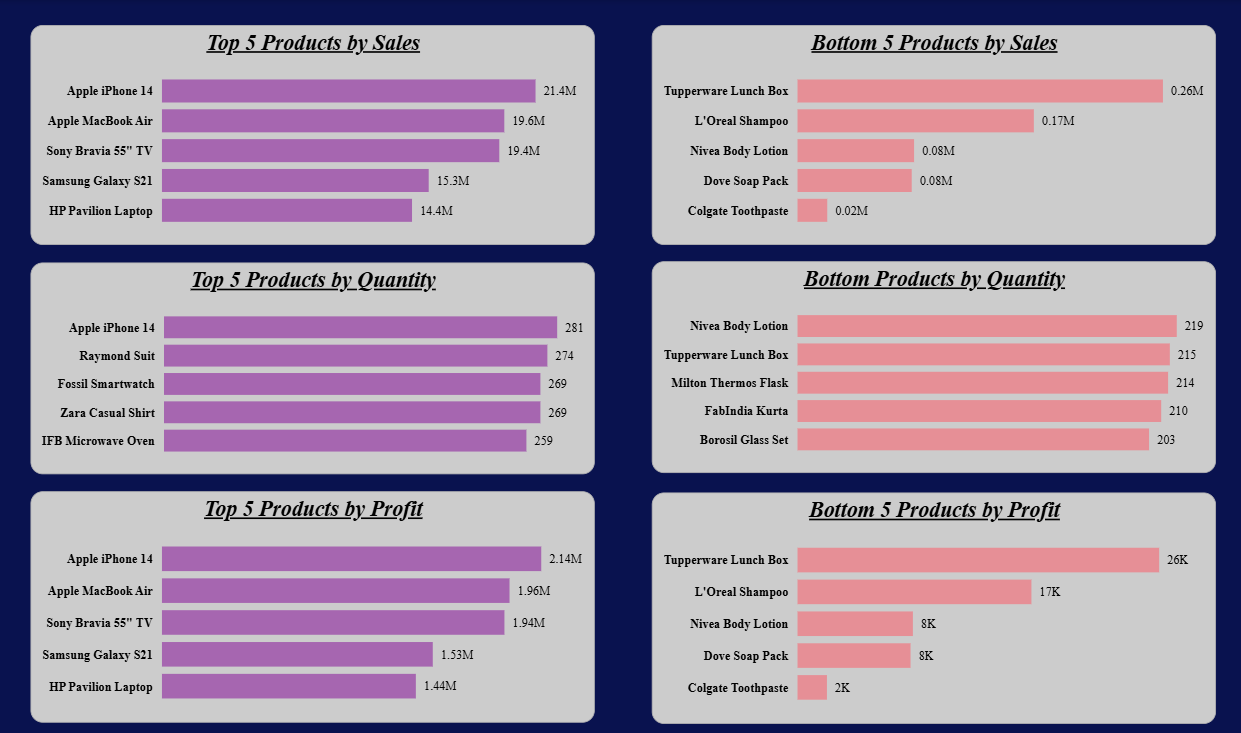

Layout of this report page (visuals, bound fields, positions):
{"tool":"powerbi","page":{"name":"Top/Bottom 5 Analysis","canvas":[1280,720],"ordinal":1},"visuals":[{"type":"barChart","title":"Top 5 Products by Sales","fields":{"Category":["Dim Product.Product Name"],"Y":["Sum(Fact Table.Net Sales )"]},"box":[31.6,24.7,551.6,215.4],"z":0},{"type":"barChart","title":"Bottom 5 Products by Sales","fields":{"Category":["Dim Product.Product Name"],"Y":["Sum(Fact Table.Net Sales )"]},"box":[639.5,24.7,551.6,215.4],"z":1000},{"type":"barChart","title":"Top 5 Products by Quantity","fields":{"Category":["Dim Product.Product Name"],"Y":["Sum(Fact Table.Units Sold)"]},"box":[31.6,256.6,551.6,207.2],"z":2000},{"type":"barChart","title":"Bottom Products by Quantity","fields":{"Category":["Dim Product.Product Name"],"Y":["Sum(Fact Table.Units Sold)"]},"box":[639.5,255.2,551.6,207.2],"z":3000},{"type":"barChart","title":"Top 5 Products by Profit","fields":{"Category":["Dim Product.Product Name"],"Y":["Sum(Fact Table.Profit)"]},"box":[31.6,480.3,551.6,226.4],"z":4000},{"type":"barChart","title":"Bottom 5 Products by Profit","fields":{"Category":["Dim Product.Product Name"],"Y":["Sum(Fact Table.Profit)"]},"box":[639.5,481.6,551.6,226.4],"z":5000}]}

Visuals, with their boxes on the page's 1280x720 design canvas (x1, y1, x2, y2). These are canvas units, not pixel positions in the 1241x733 screenshot, which may show the page scaled, cropped or inside an application window:
"Top 5 Products by Sales" barChart: x1=32 y1=25 x2=583 y2=240
"Bottom 5 Products by Sales" barChart: x1=640 y1=25 x2=1191 y2=240
"Top 5 Products by Quantity" barChart: x1=32 y1=257 x2=583 y2=464
"Bottom Products by Quantity" barChart: x1=640 y1=255 x2=1191 y2=462
"Top 5 Products by Profit" barChart: x1=32 y1=480 x2=583 y2=707
"Bottom 5 Products by Profit" barChart: x1=640 y1=482 x2=1191 y2=708
